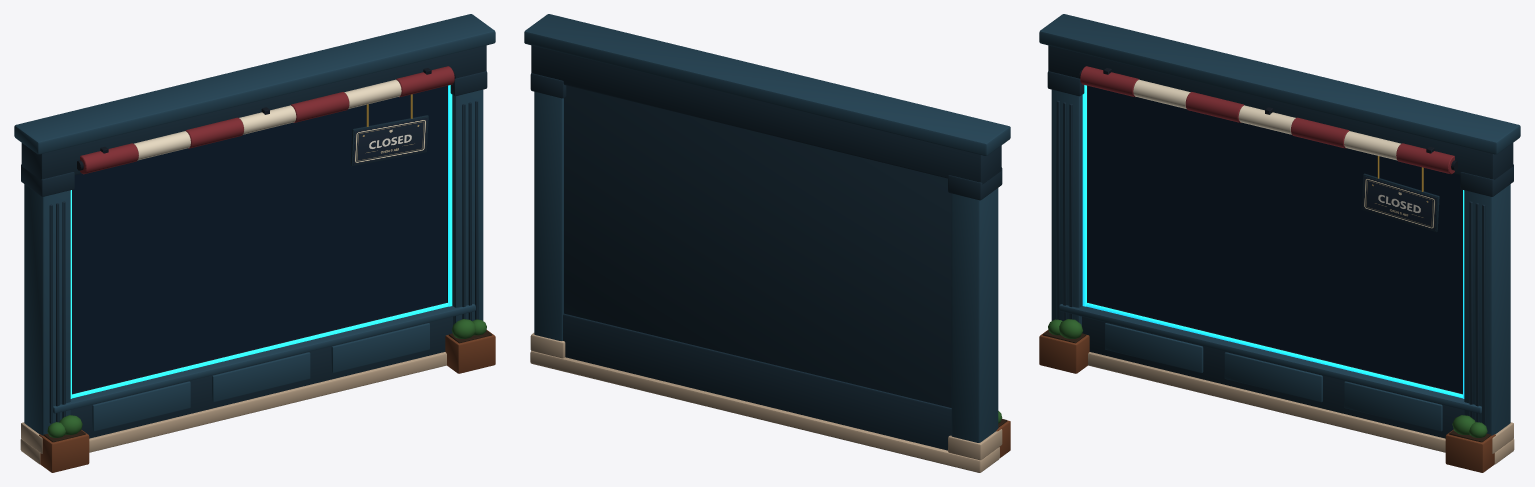
The model's file is closed_shopfront.glb.
3 views of the same model, side by side, from view 1: azimuth 30°, elevation 25°; view 2: azimuth 150°, elevation 25°; view 3: azimuth 330°, elevation 25° (orthographic).
Parts seen in each view (by area): view 1: Closed_Shopfront_Frame, Closed_Shopfront_Glass, Closed_Shopfront_Accent; view 2: Closed_Shopfront_Frame; view 3: Closed_Shopfront_Frame, Closed_Shopfront_Glass, Closed_Shopfront_Accent.
Part boxes in pixels (left/top/right/bottom): Closed_Shopfront_Frame: left=14, top=14, right=495, bottom=472; Closed_Shopfront_Glass: left=72, top=86, right=446, bottom=393; Closed_Shopfront_Accent: left=70, top=85, right=452, bottom=398; Closed_Shopfront_Frame: left=524, top=14, right=1010, bottom=472; Closed_Shopfront_Frame: left=1039, top=14, right=1520, bottom=472; Closed_Shopfront_Glass: left=1088, top=86, right=1462, bottom=393; Closed_Shopfront_Accent: left=1082, top=85, right=1464, bottom=398.
Bounding box in the file's own units: 5.82 × 3.98 × 0.69.
13 materials, 1 textured.
